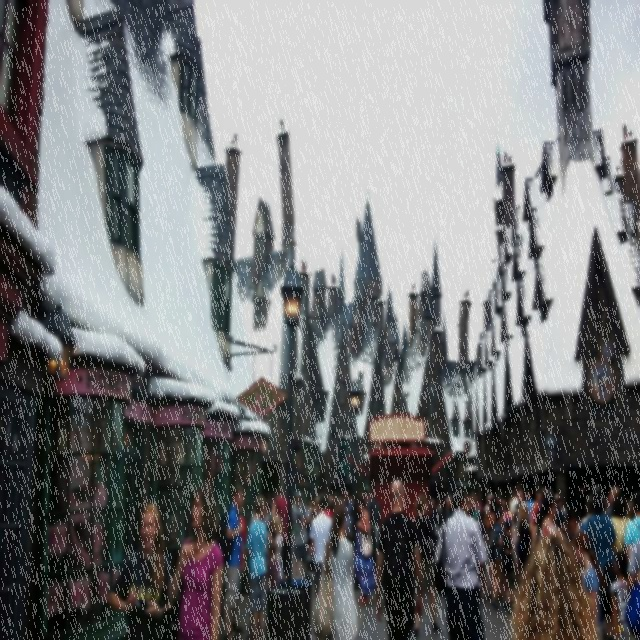pessoa: (509, 531, 602, 639), (106, 499, 173, 639), (166, 478, 224, 639), (372, 473, 424, 639), (433, 488, 488, 639), (311, 498, 359, 639), (411, 492, 444, 639), (572, 530, 607, 639), (245, 496, 268, 638), (224, 484, 245, 639), (246, 496, 269, 634), (582, 484, 618, 572), (353, 492, 378, 606), (530, 492, 566, 551), (500, 516, 520, 616), (484, 496, 502, 606), (232, 496, 246, 634), (610, 550, 631, 639), (270, 486, 289, 582), (489, 508, 506, 612), (624, 531, 640, 639), (515, 501, 536, 583), (292, 488, 310, 581), (364, 488, 382, 576), (610, 488, 632, 554), (266, 512, 285, 584), (622, 488, 640, 564), (559, 498, 582, 534), (351, 487, 364, 549), (574, 496, 594, 536), (509, 489, 520, 560), (265, 539, 280, 590), (512, 487, 526, 530), (341, 496, 354, 542), (466, 489, 484, 520), (604, 486, 620, 518), (554, 493, 567, 532), (530, 491, 542, 531), (499, 493, 512, 527), (524, 489, 536, 520), (341, 488, 353, 518), (310, 494, 322, 524), (476, 508, 486, 544), (622, 496, 635, 522), (326, 491, 338, 518), (437, 498, 447, 526), (430, 499, 440, 527), (444, 493, 454, 520), (263, 496, 272, 524), (306, 498, 314, 516), (486, 491, 494, 509), (426, 498, 434, 516), (539, 486, 553, 496), (604, 496, 612, 512)
